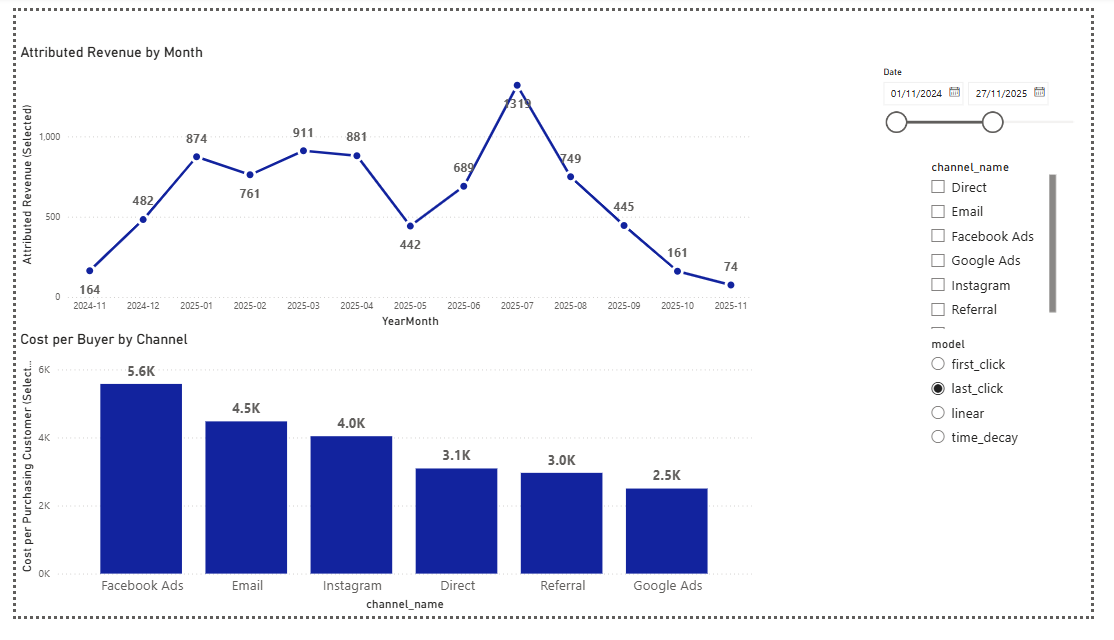

What the dashboard file says about the page in this screenshot:
{"tool":"powerbi","page":{"name":"Página 3","canvas":[1280,720],"ordinal":2},"visuals":[{"type":"slicer","fields":{"Values":["analytics_portfolio fact_attribution.model"]},"box":[1076.6,381.8,148.7,157.6],"z":0},{"type":"slicer","fields":{"Values":["analytics_portfolio dim_channel.channel_name"]},"box":[1076.6,170.9,166.5,210.9],"z":2000},{"type":"slicer","fields":{"Values":["Calendar.Date"]},"box":[1018.8,59.9,261.9,111],"z":3000},{"type":"columnChart","title":"Cost per Buyer by Channel","fields":{"Category":["analytics_portfolio dim_channel.channel_name"],"Y":["analytics_portfolio fact_marketing_spend.CAC"]},"box":[0,381,881,338.1],"z":4000},{"type":"lineChart","title":"Attributed Revenue by Month","fields":{"Category":["Calendar.YearMonth"],"Y":["analytics_portfolio fact_attribution.Attributed Revenue (Selected)"]},"box":[0,40,881.2,341.8],"z":6000}]}

Visuals, with their boxes in screenshot pixels (x1, y1, x2, y2), scaled from the page's 1280x720 canvas onto the 1114x640 screenshot:
slicer - analytics_portfolio fact_attribution.model: {"left": 937, "top": 339, "right": 1066, "bottom": 479}
slicer - analytics_portfolio dim_channel.channel_name: {"left": 937, "top": 152, "right": 1082, "bottom": 339}
slicer - Calendar.Date: {"left": 887, "top": 53, "right": 1113, "bottom": 152}
"Cost per Buyer by Channel" columnChart: {"left": 0, "top": 339, "right": 767, "bottom": 639}
"Attributed Revenue by Month" lineChart: {"left": 0, "top": 36, "right": 767, "bottom": 339}
